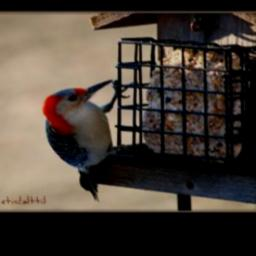Woodpecker: (43, 80, 133, 202)
